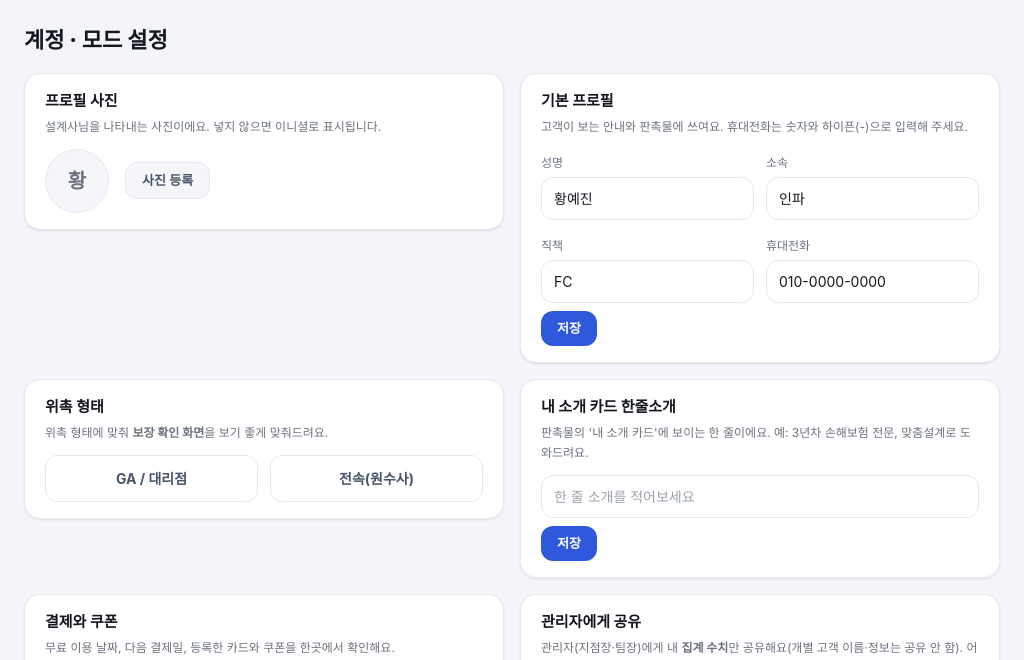
it: 기본 프로필 저장 결과 › 성공 응답은 status로 알리고 서버가 정리한 값을 다시 입력한다
The width and height of the screenshot is (1024, 660).
Expected: the field showing "황예진" is shown, [541,176,754,220]
Click the button "저장" below "직책" at (569, 328), box [541,310,597,346]
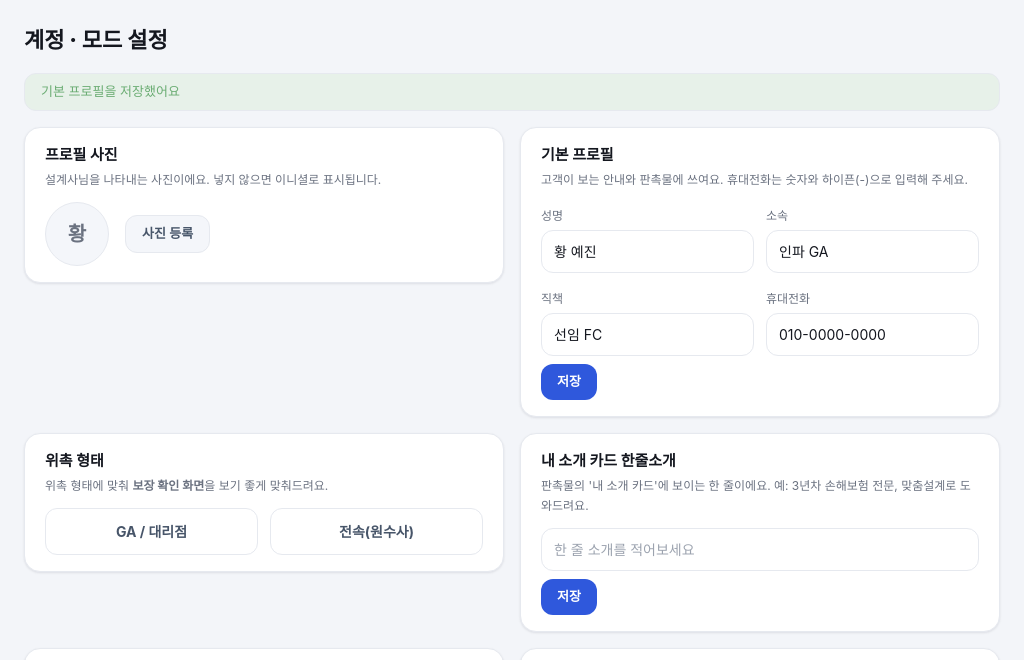
Expected: the message reads "기본 프로필을 저장했어요", [41,83,180,99]
Expected: the field showing "황 예진" is shown, [541,230,754,273]
